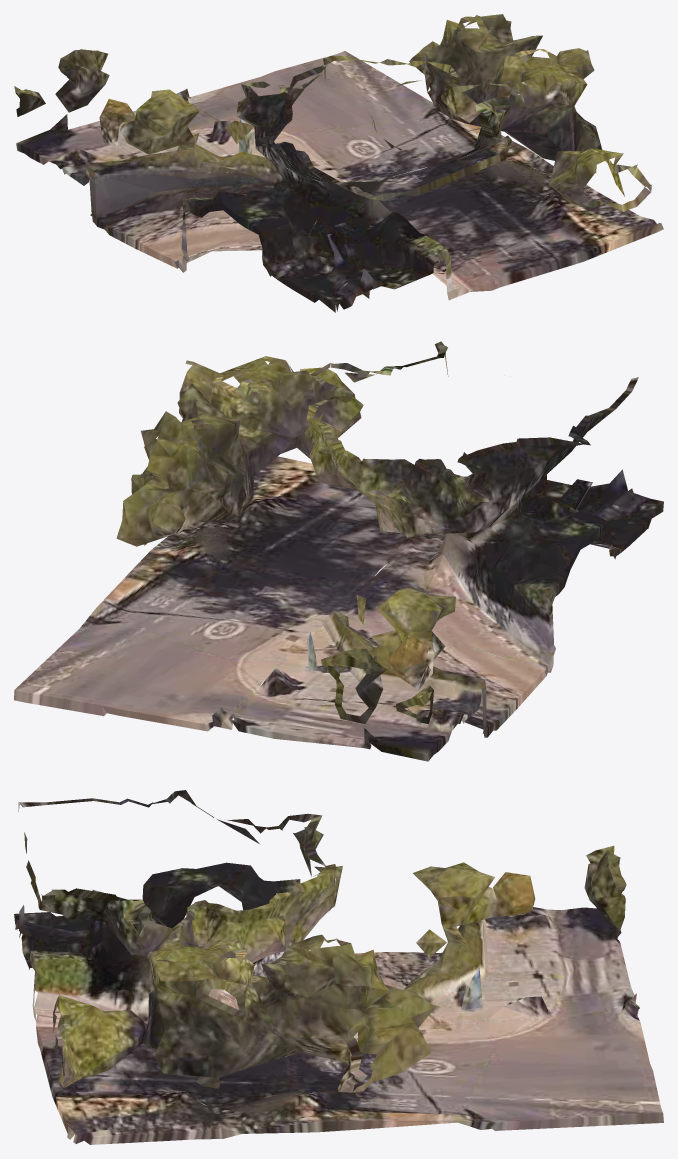
3 views of the same model, one above another, from view 1: azimuth 30°, elevation 25°; view 2: azimuth 150°, elevation 25°; view 3: azimuth 270°, elevation 25° (orthographic). The views are drawn at different scales.
Visible parts, largest first — view 1: Mesh_0; view 2: Mesh_0; view 3: Mesh_0.
Boxes of the visible parts, x1,y1,x2,y2 form: Mesh_0: (14,14,663,312); Mesh_0: (14,341,663,761); Mesh_0: (14,790,663,1144).
Bounding box in the file's own units: 33.44 × 13.44 × 41.36.
Materials: 2 (2 with a texture image).
